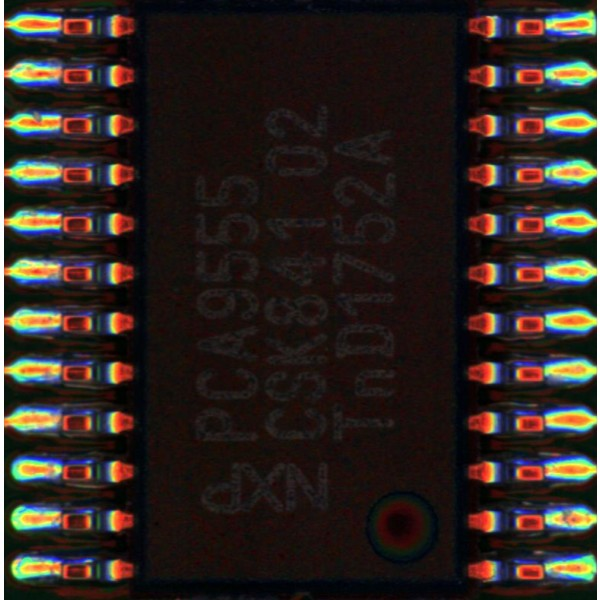Bad_podu: (43, 314, 74, 329), (44, 265, 74, 279), (532, 465, 568, 476), (42, 514, 74, 525), (41, 217, 76, 227), (44, 562, 70, 575), (42, 69, 72, 80), (43, 168, 73, 179), (43, 367, 73, 378), (41, 118, 72, 128), (46, 416, 70, 426), (44, 20, 69, 29)
